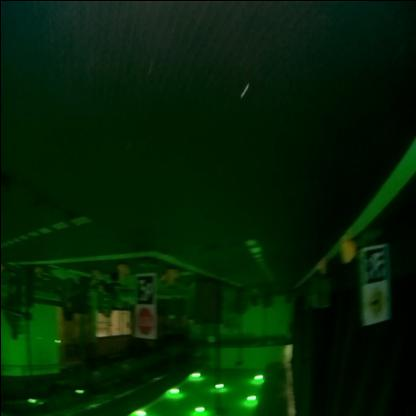Duckie: (340, 241, 354, 263), (114, 264, 128, 280), (164, 270, 176, 284)
Intersection sign: (362, 286, 386, 322)
QR code: (360, 245, 384, 282), (134, 274, 154, 302)
Stop sign: (134, 306, 154, 336)
